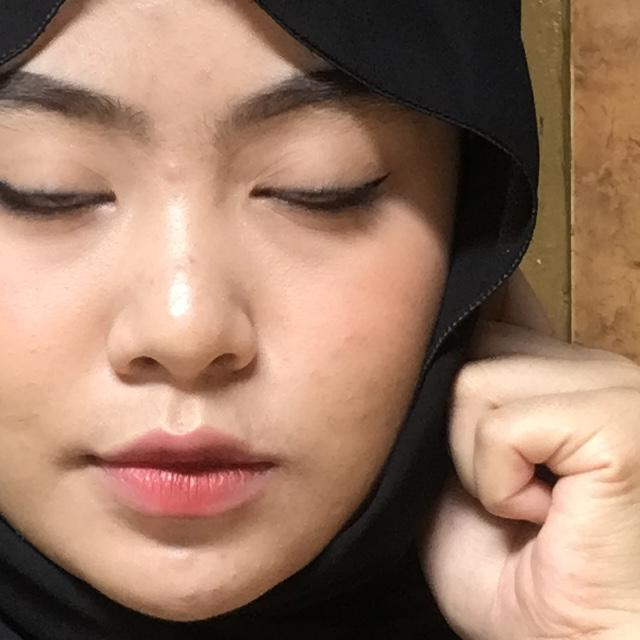ibu: (390, 266, 640, 640)
